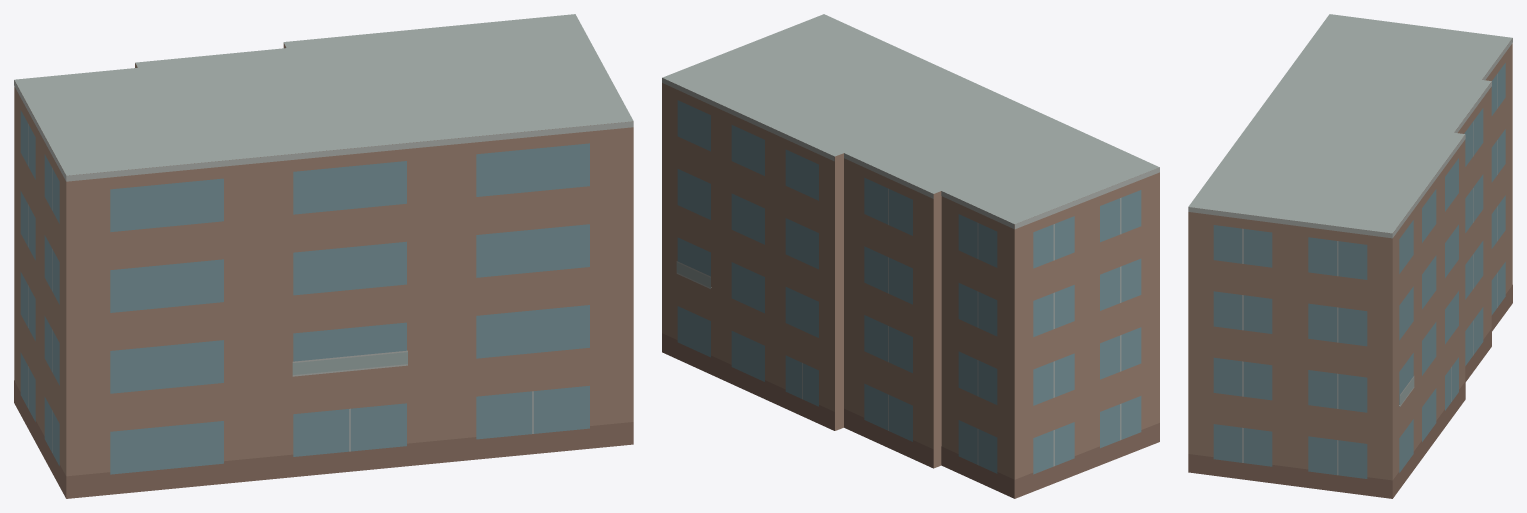
The model's file is survey-upis-32870262.glb.
The picture shows the model from 3 angles, left to right: view 1: azimuth 30°, elevation 25°; view 2: azimuth 150°, elevation 25°; view 3: azimuth 270°, elevation 25°; orthographic projection. The views are drawn at different scales.
Parts seen in each view (by area): view 1: survey-upis-32870262.tmp; view 2: survey-upis-32870262.tmp; view 3: survey-upis-32870262.tmp.
Boxes of the visible parts, x1,y1,x2,y2 form: survey-upis-32870262.tmp: [14, 14, 633, 498]; survey-upis-32870262.tmp: [662, 14, 1159, 498]; survey-upis-32870262.tmp: [1188, 14, 1512, 498].
Size of the model in its own units: 23.41 by 13.2 by 14.64.
